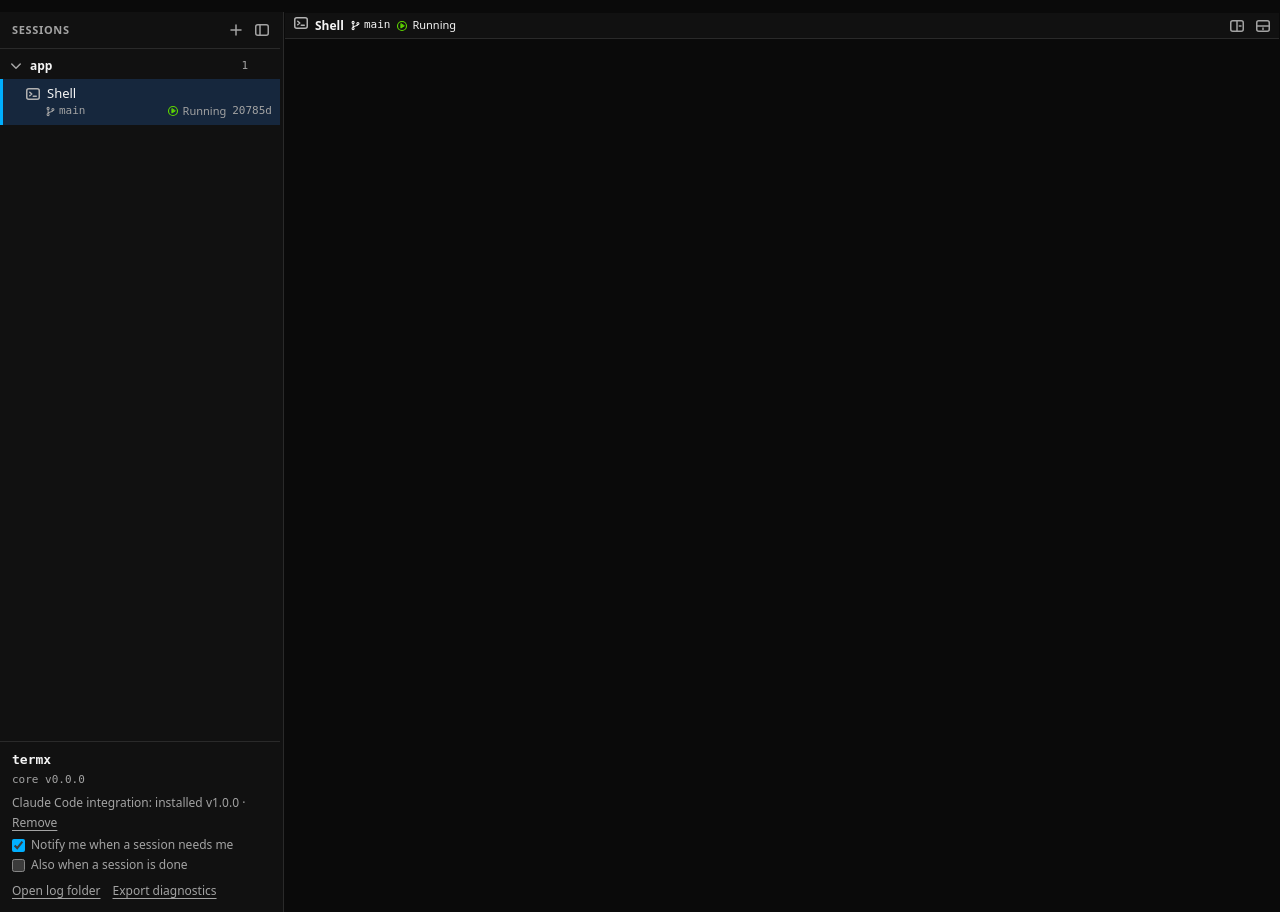
renaming › is in the context menu
Right-click the list item with test id "session-row" at (140, 102), box [0, 79, 280, 124]
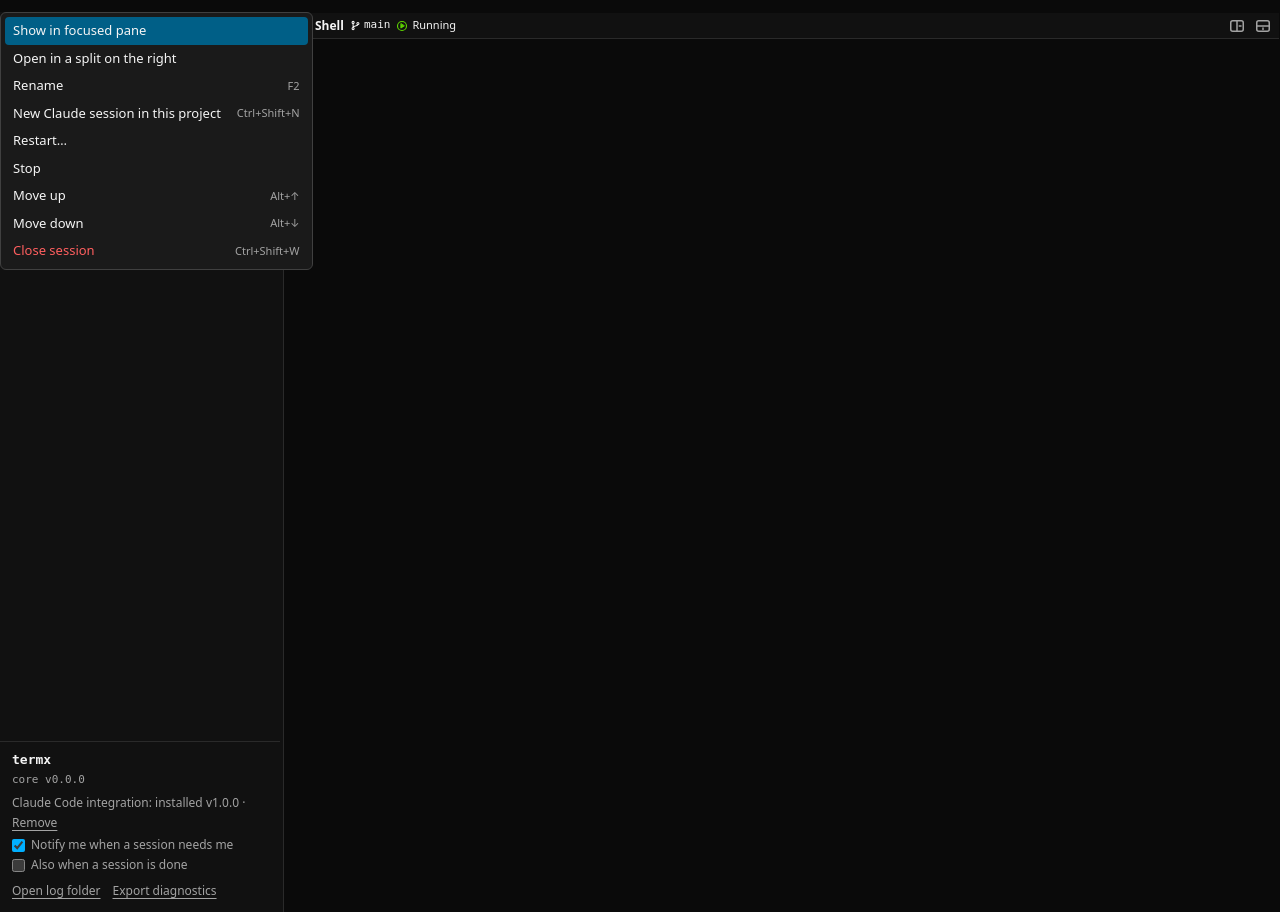
Click the menu item with test id "menu-rename" at (38, 85), box [5, 72, 308, 100]
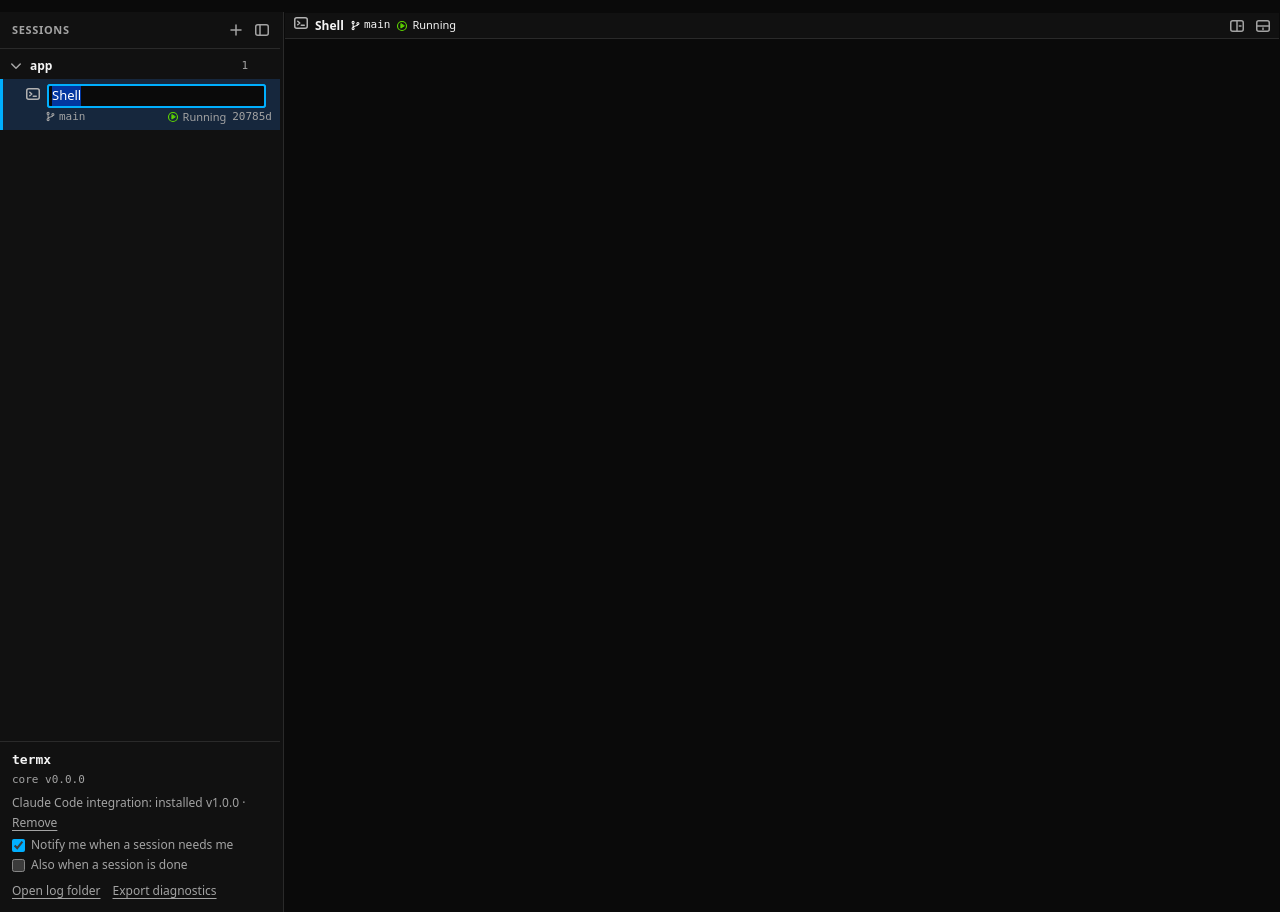
Result: the field with test id "rename-input" is shown at [47, 84, 266, 108]
